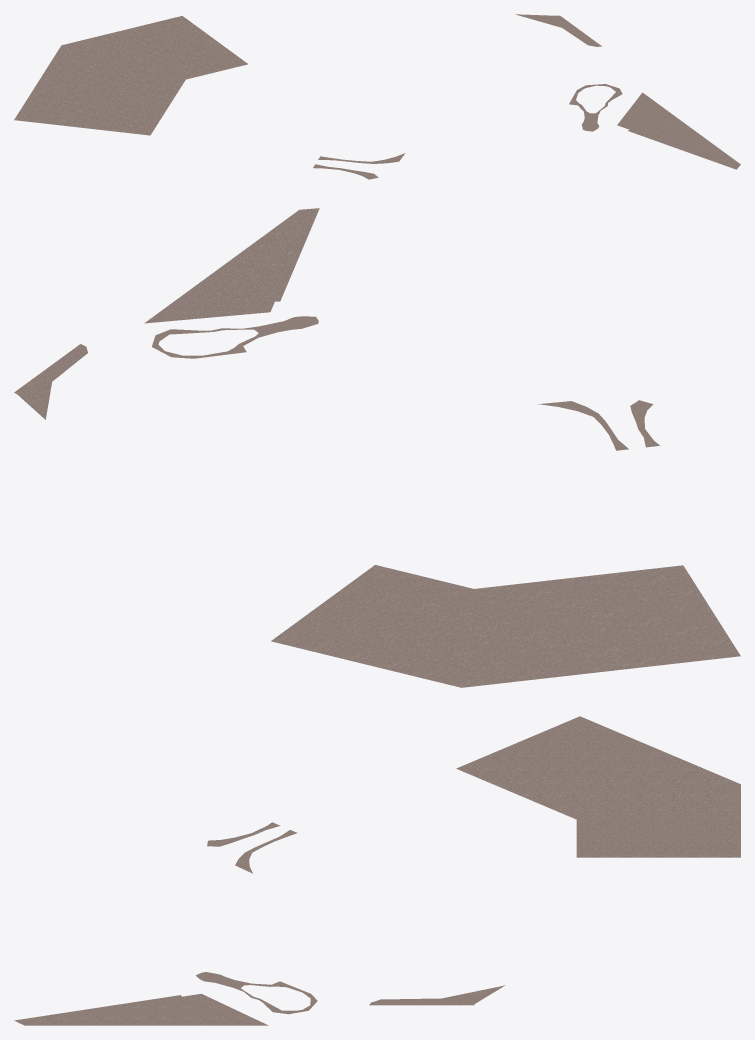
Rendered from kd_stage_135fe0_5_21_bounded.glb.
The picture shows the model from 3 angles, top to bottom: view 1: azimuth 30°, elevation 25°; view 2: azimuth 150°, elevation 25°; view 3: azimuth 270°, elevation 25°; orthographic projection. The views are drawn at different scales.
Parts seen in each view (by area): view 1: kd_stage_135fe0_5_21_bounded; view 2: kd_stage_135fe0_5_21_bounded; view 3: kd_stage_135fe0_5_21_bounded.
Boxes of the visible parts, x1=… form: kd_stage_135fe0_5_21_bounded: x1=14, y1=14, x2=740, y2=179; kd_stage_135fe0_5_21_bounded: x1=14, y1=208, x2=740, y2=687; kd_stage_135fe0_5_21_bounded: x1=14, y1=716, x2=740, y2=1025.
Bounding box in the file's own units: 22.34 × 0.6999 × 22.5.
1 material, 1 textured.
